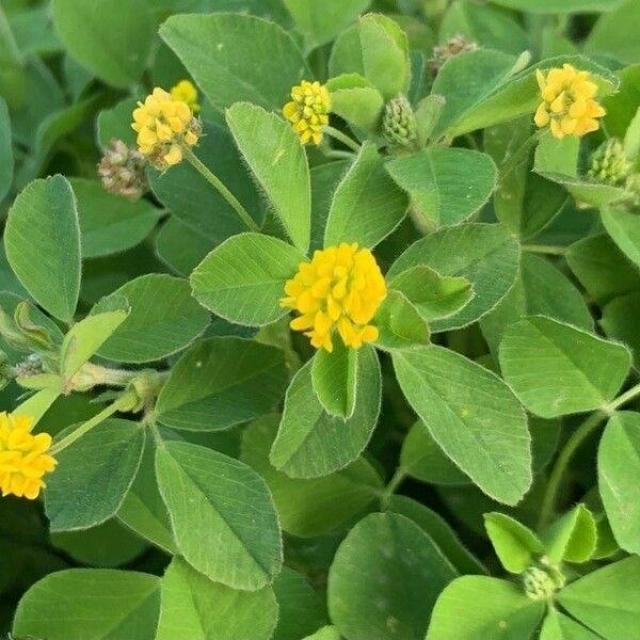organic waste: (271, 243, 399, 355), (514, 48, 608, 150), (115, 75, 212, 169), (274, 68, 340, 160)
